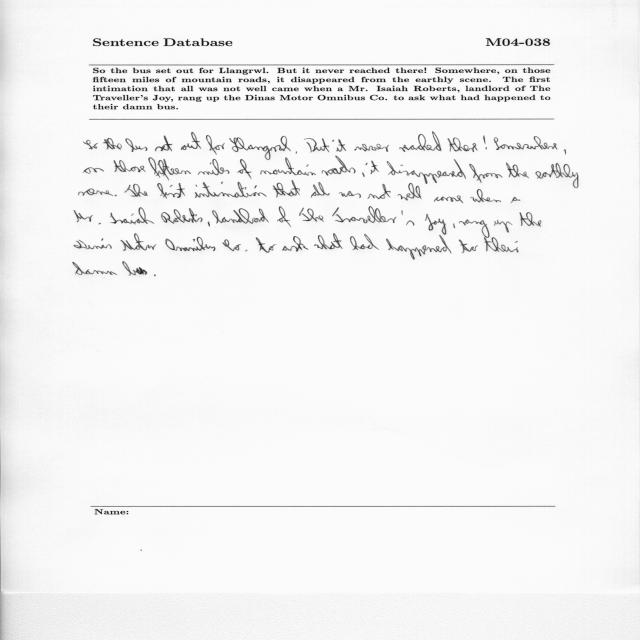word: (387, 159, 466, 184), (333, 206, 415, 226), (386, 235, 451, 260), (229, 136, 291, 160), (260, 157, 316, 181), (195, 182, 267, 198), (536, 163, 579, 188), (148, 158, 191, 181), (212, 208, 269, 224), (494, 136, 557, 150), (400, 132, 442, 152), (110, 207, 154, 225), (166, 237, 216, 251), (161, 208, 203, 224), (322, 156, 356, 175), (121, 233, 156, 251), (470, 164, 503, 183), (459, 219, 490, 238), (73, 262, 117, 275), (198, 159, 230, 175), (484, 237, 518, 252), (314, 234, 343, 250), (350, 234, 379, 250), (448, 137, 478, 152), (158, 183, 186, 199), (425, 214, 446, 235), (273, 182, 300, 198), (398, 183, 422, 200), (74, 238, 111, 249), (74, 210, 101, 225), (470, 189, 501, 202), (282, 236, 308, 251), (114, 160, 146, 172), (206, 135, 225, 155), (304, 138, 329, 153), (299, 207, 324, 222), (181, 132, 201, 150), (123, 262, 148, 276), (506, 163, 529, 178), (368, 184, 391, 199), (520, 212, 542, 227), (223, 239, 248, 252), (256, 237, 276, 253), (124, 184, 148, 197), (126, 138, 148, 152), (277, 206, 291, 227), (311, 182, 330, 197), (354, 144, 389, 152), (238, 159, 252, 179), (155, 136, 172, 152), (459, 240, 478, 254), (494, 220, 513, 233), (79, 189, 114, 196), (434, 196, 463, 204), (103, 138, 122, 150), (332, 139, 346, 152), (366, 161, 379, 174), (339, 191, 361, 198), (83, 167, 104, 174), (83, 140, 98, 149), (511, 197, 521, 203), (483, 136, 487, 150), (362, 172, 365, 177), (207, 222, 210, 227), (564, 149, 566, 155), (453, 224, 455, 229), (115, 195, 117, 197), (154, 275, 156, 277), (296, 151, 297, 154)
